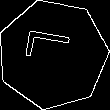L_E: (25, 35, 81, 74)
